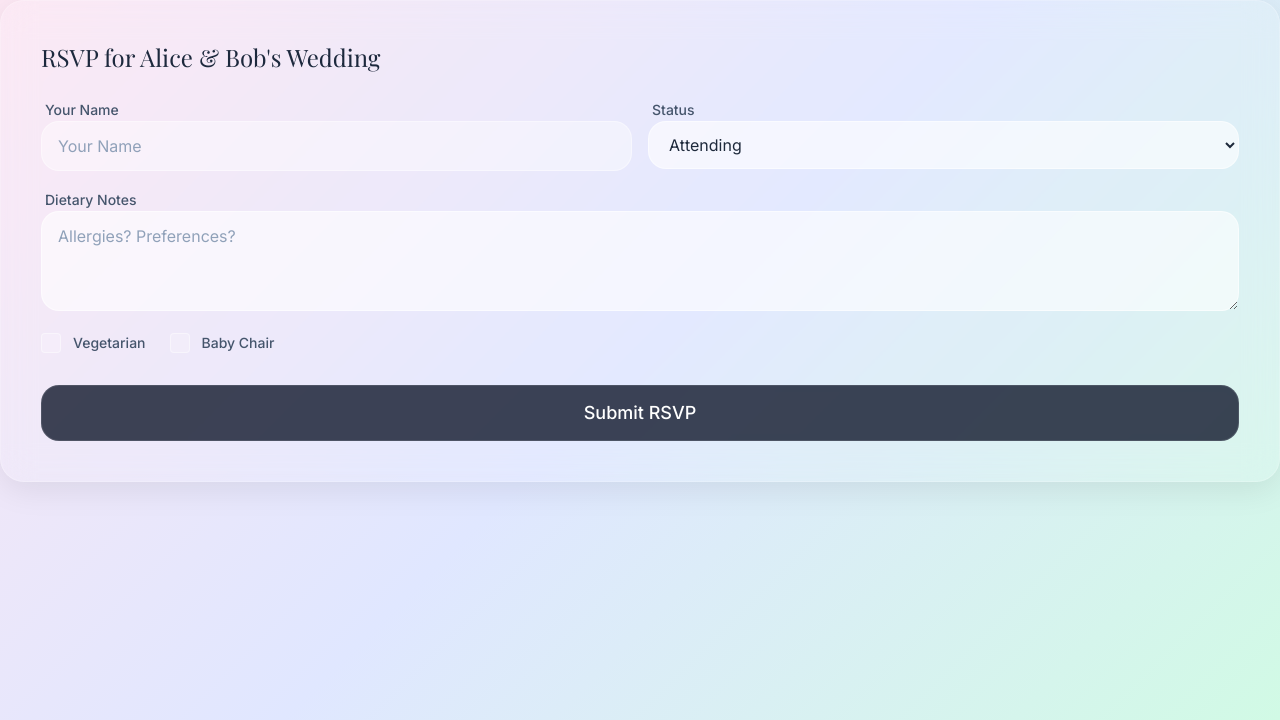
Test: RSVPForm › shows error banner when server action fails
This screenshot has width=1280, height=720.
Type "Carol" into the field with id "guestName" at x=336, y=146, box [41,121,632,171]
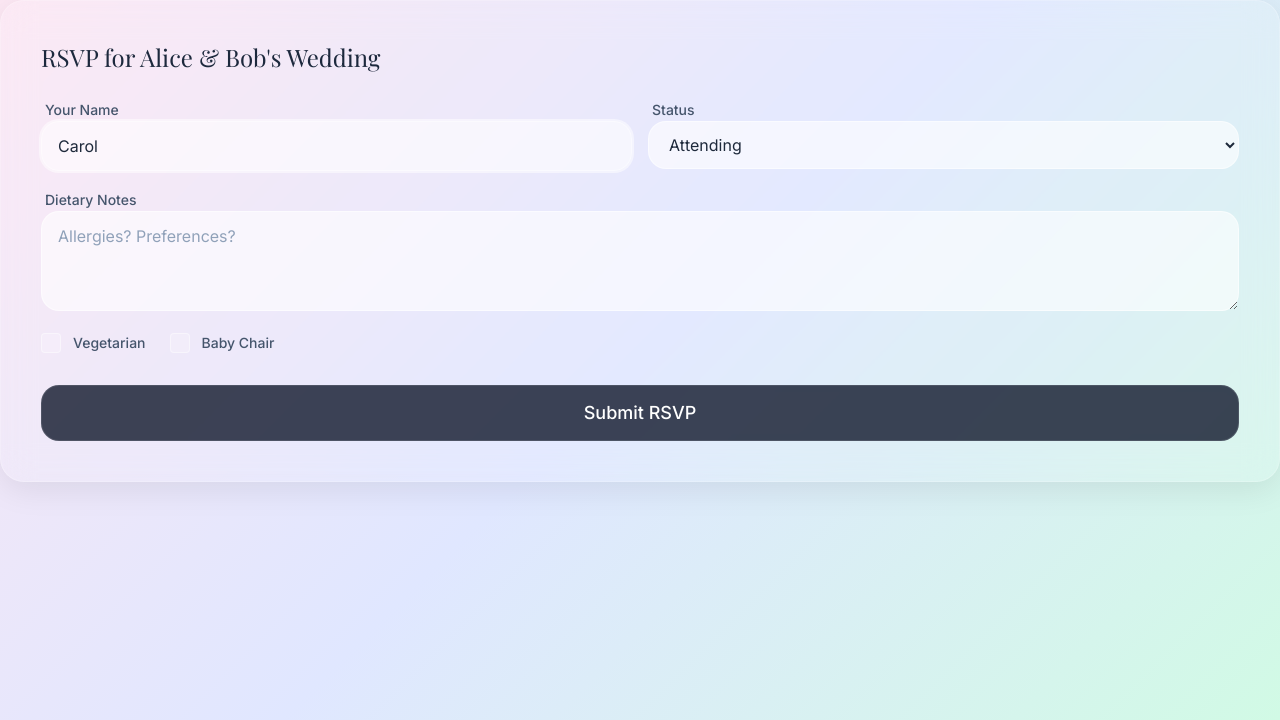
Click the button "Submit RSVP" at x=640, y=413, box [41,385,1239,441]
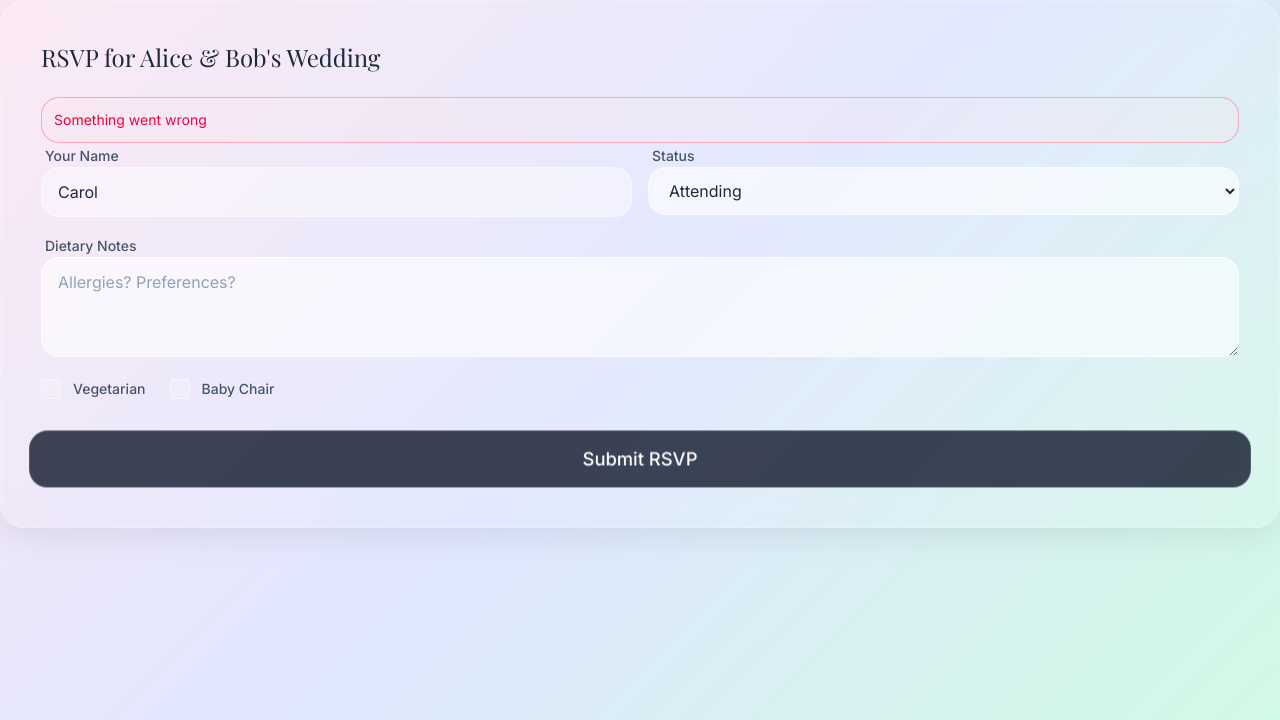
Expected: the heading shows "RSVP for", [41,41,140,73]
Result: the text "Something went wrong" is shown at [41,97,1239,143]
